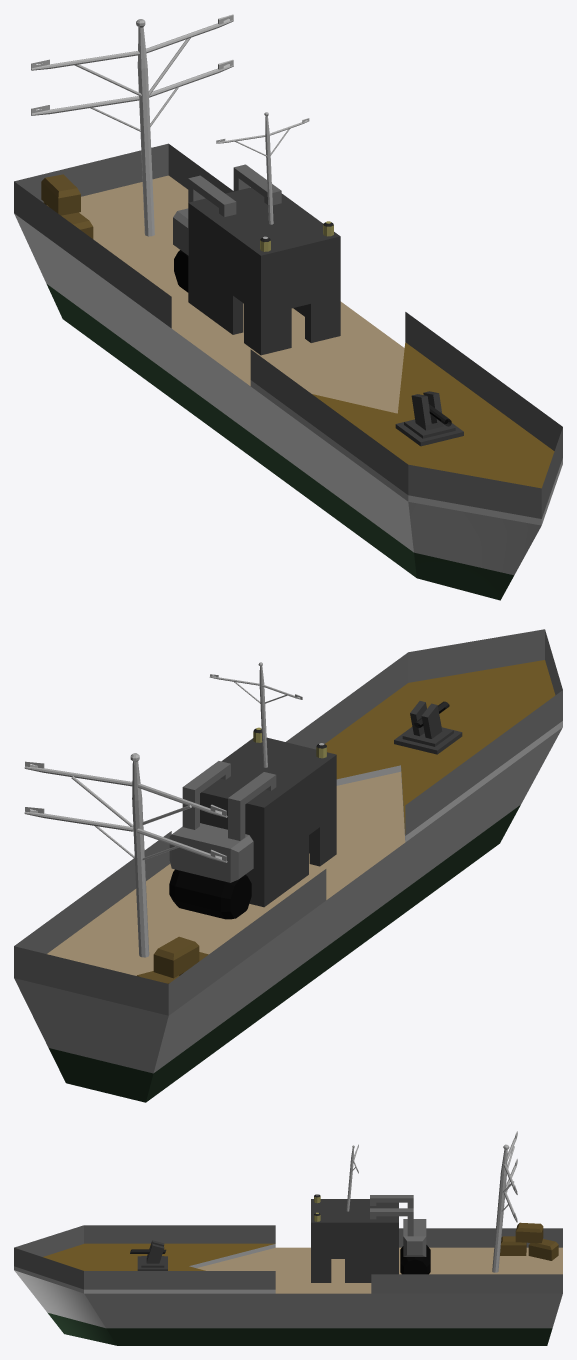
The model's file is Cruiser.fbx.
3 views of the same model, one above another, from view 1: azimuth 30°, elevation 25°; view 2: azimuth 150°, elevation 25°; view 3: azimuth 270°, elevation 25° (orthographic). The views are drawn at different scales.
Visible parts, largest first — view 1: pCube1, pCube9, pCylinder14, pCube19, pCube12, pCube11, pCube15; view 2: pCube1, pCube9, pCube10, pCylinder1, pCylinder14, pCube12, pCube19, pCube11, pCube15, pCylinder15, pCylinder13, pCube14; view 3: pCube1, pCube9, pCube10, pCylinder14, pCylinder1, pCube19, pCube11, pCube18, pCube17, pCube12, pCube15.
Part boxes in pixels (x1,y1,x2,y2): pCube1: (14,143,562,600); pCube9: (188,187,340,355); pCylinder14: (136,19,154,236); pCube19: (41,174,80,215); pCube12: (188,175,236,217); pCube11: (233,164,281,205); pCube15: (411,391,443,430); pCube1: (14,629,562,1102); pCube9: (200,737,336,907); pCube10: (169,823,253,882); pCylinder1: (169,869,251,919); pCylinder14: (130,753,149,957); pCube12: (228,772,276,840); pCube19: (153,936,199,978); pCube11: (182,761,230,829); pCube15: (410,701,442,738); pCylinder15: (24,807,133,831); pCylinder13: (24,761,132,786); pCube14: (394,727,462,754); pCube1: (14,1225,562,1345); pCube9: (311,1199,398,1282); pCube10: (403,1219,426,1256); pCylinder14: (492,1144,509,1272); pCylinder1: (400,1245,430,1274); pCube19: (515,1222,543,1243); pCube11: (370,1208,413,1236); pCube18: (528,1239,558,1260); pCube17: (500,1236,526,1255); pCube12: (370,1195,413,1208); pCube15: (146,1240,164,1263).
Size of the model in its own units: 6.2 by 9.18 by 24.01.
